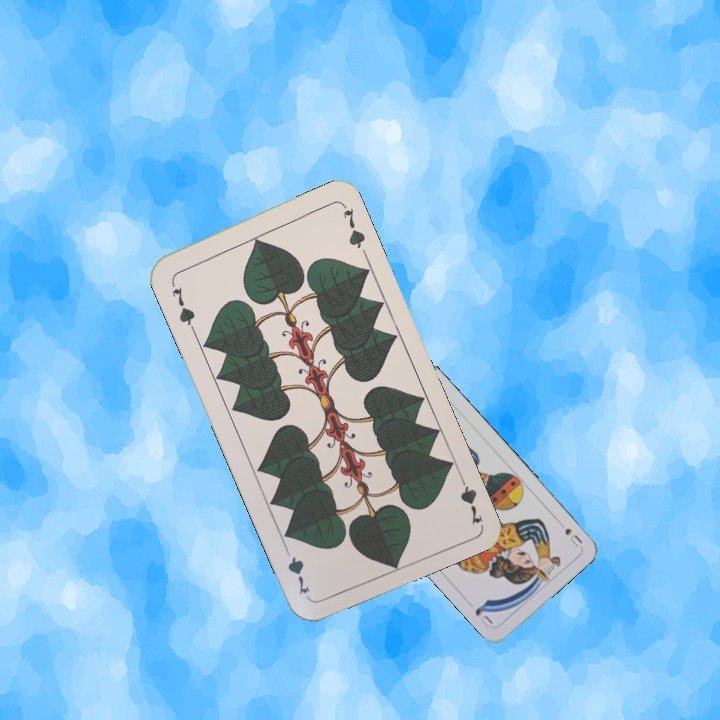G7: (454, 469, 486, 528), (167, 276, 198, 332)
SU: (561, 524, 585, 550)
